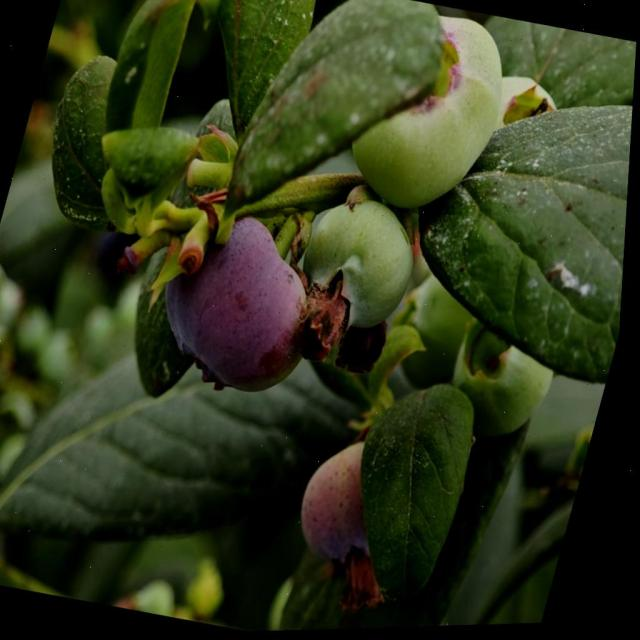Semi-RipeBlueBerry: (146, 202, 344, 409), (290, 434, 420, 588)
UnripeBlueBerry: (334, 1, 528, 228), (292, 191, 435, 348)
